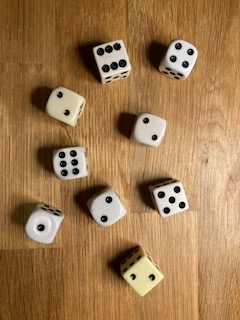five: (147, 178, 191, 219)
four: (158, 38, 199, 81)
one: (24, 202, 66, 245)
six: (91, 39, 132, 85), (51, 145, 91, 180)
two: (118, 245, 165, 297), (83, 186, 129, 229), (43, 86, 87, 127), (129, 112, 168, 149)
